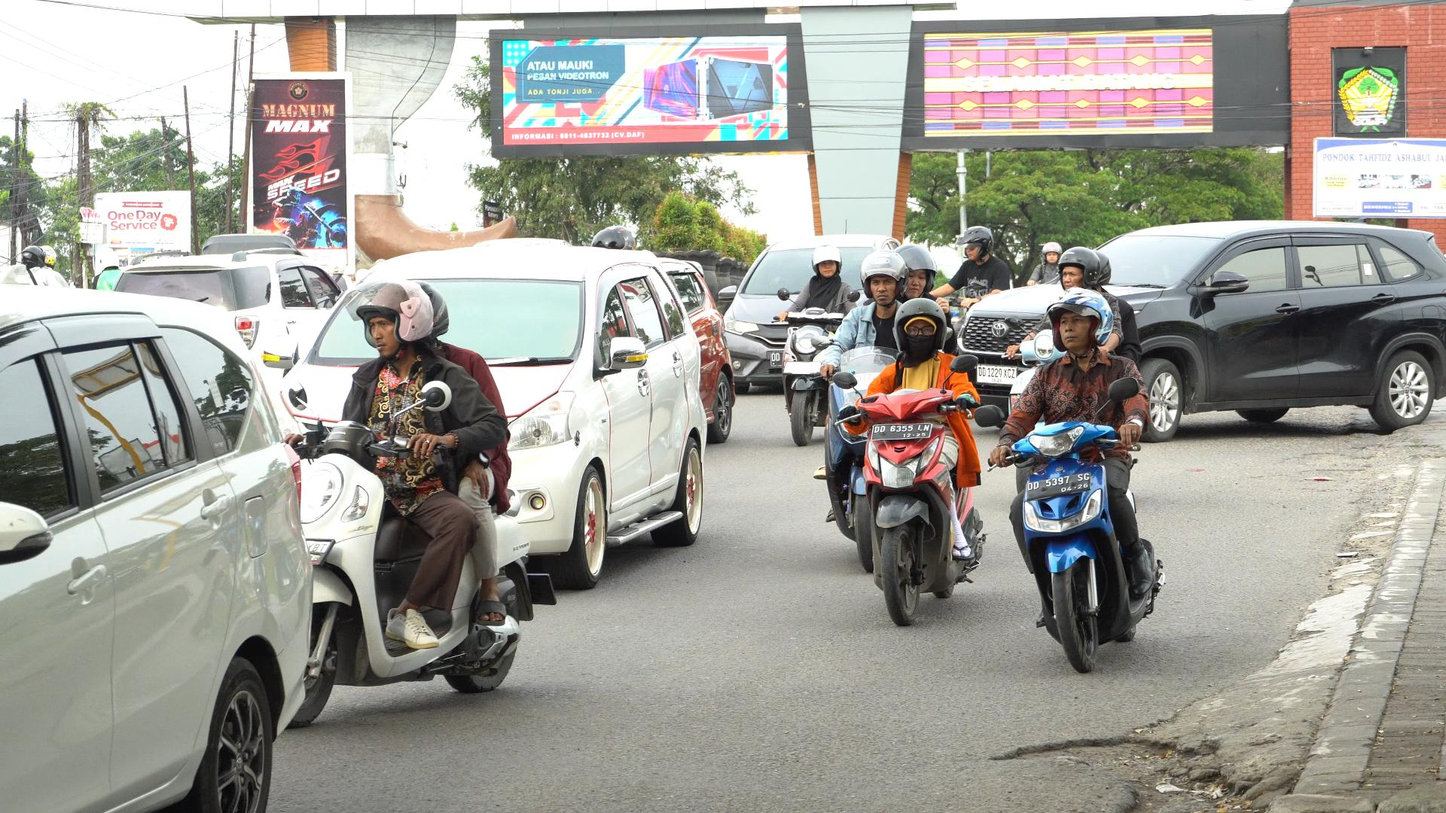number-plate: (1026, 473, 1092, 496), (871, 420, 932, 440)
